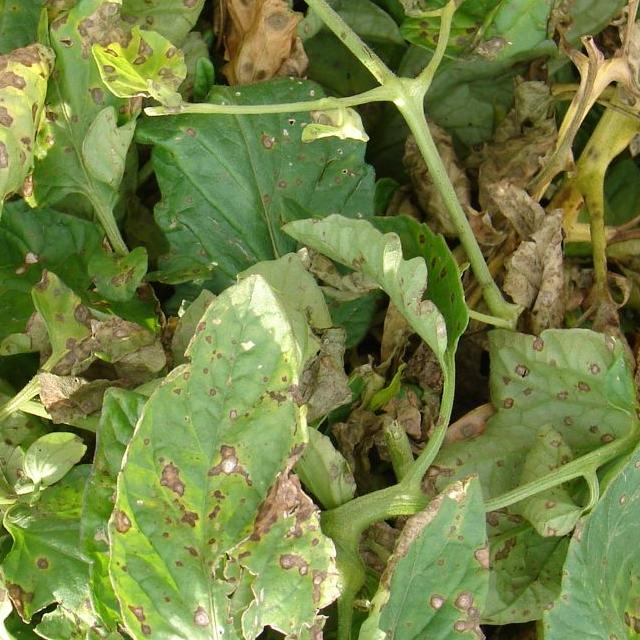Tomato Septoria leaf spot: (109, 258, 353, 640), (342, 459, 518, 640), (0, 0, 49, 192), (0, 545, 66, 640), (0, 316, 18, 640)
